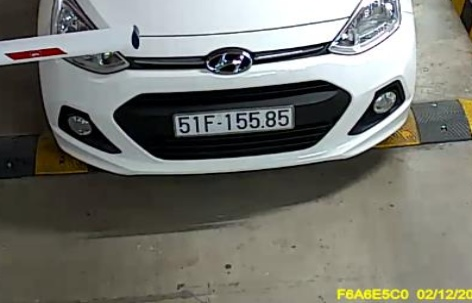plate: (169, 104, 296, 137)
